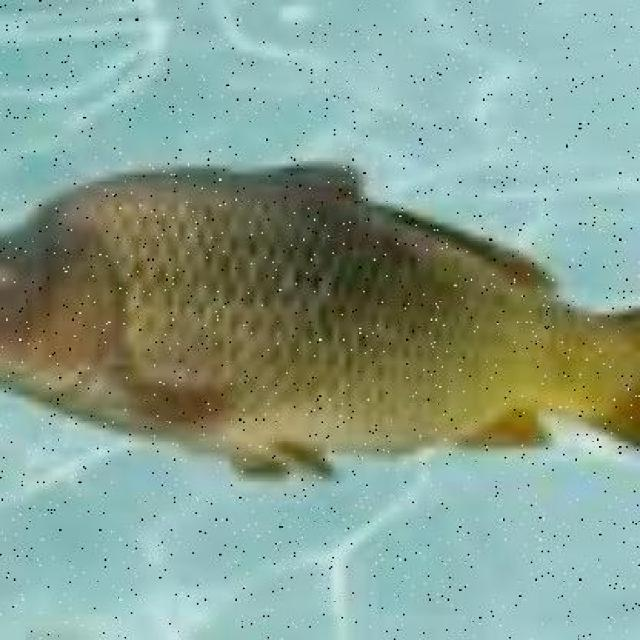ikan-mas: (6, 160, 640, 498)
